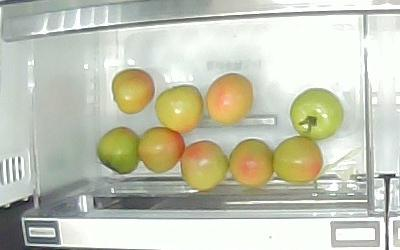tomato: (206, 72, 263, 125), (290, 89, 344, 139), (180, 141, 230, 192), (156, 85, 204, 135), (273, 136, 323, 184), (96, 127, 141, 175), (139, 127, 185, 173), (229, 139, 273, 187), (111, 69, 155, 115)
